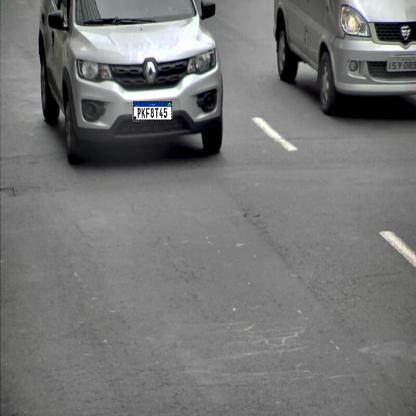PlacaM: (133, 101, 172, 121)
